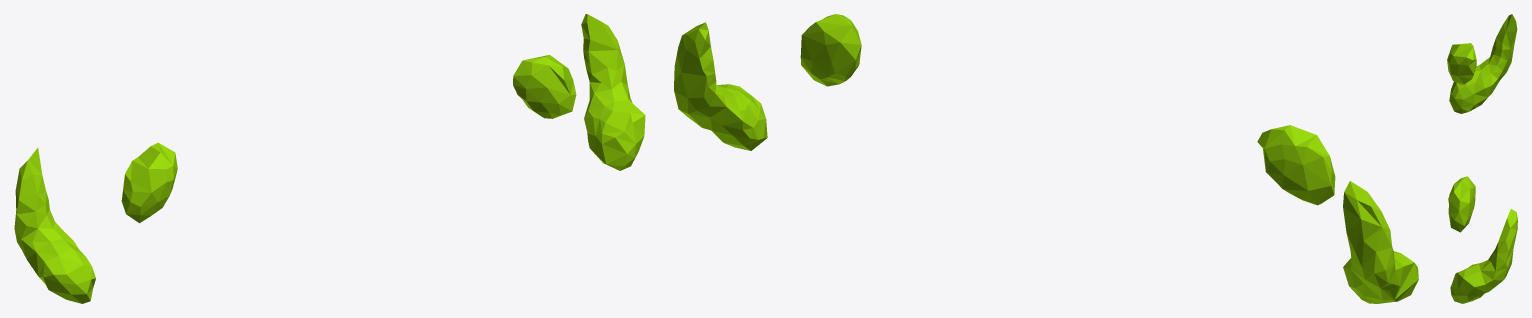
Rendered from 183-JxSt-juxtastriate area-('0.6902', '1.0000', '0.0000').obj.
3 renders of one model, left to right at view 1: azimuth 30°, elevation 25°; view 2: azimuth 150°, elevation 25°; view 3: azimuth 270°, elevation 25°, orthographic. The views are drawn at different scales.
Bounding box in the file's own units: 179 × 36.98 × 24.75.
